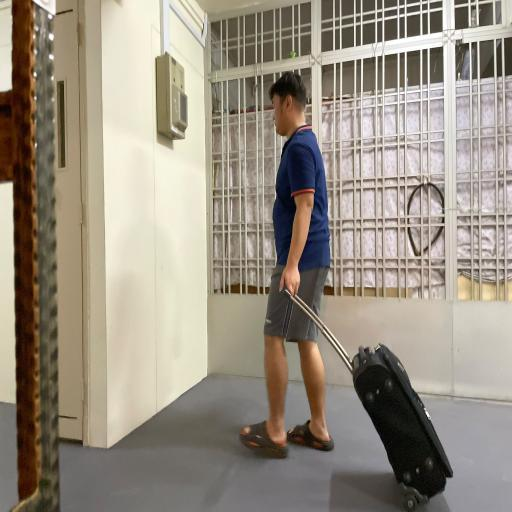person_left: (238, 71, 442, 507)
